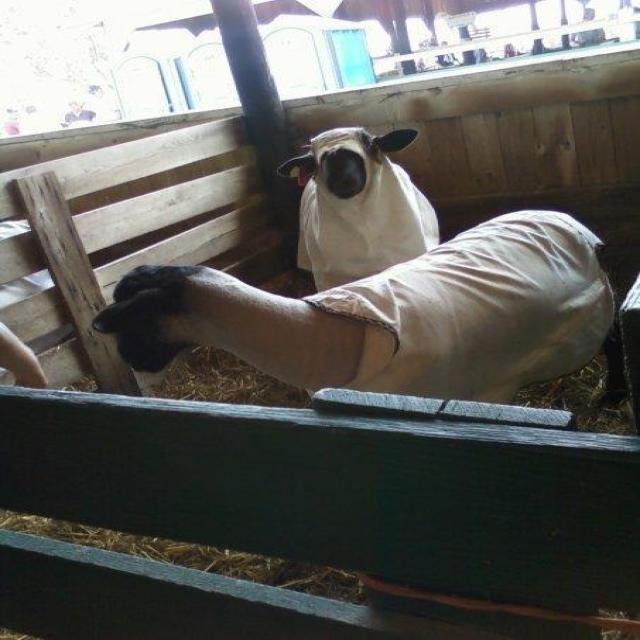Sheep: (92, 265, 629, 408), (307, 208, 613, 402), (274, 123, 445, 298)
